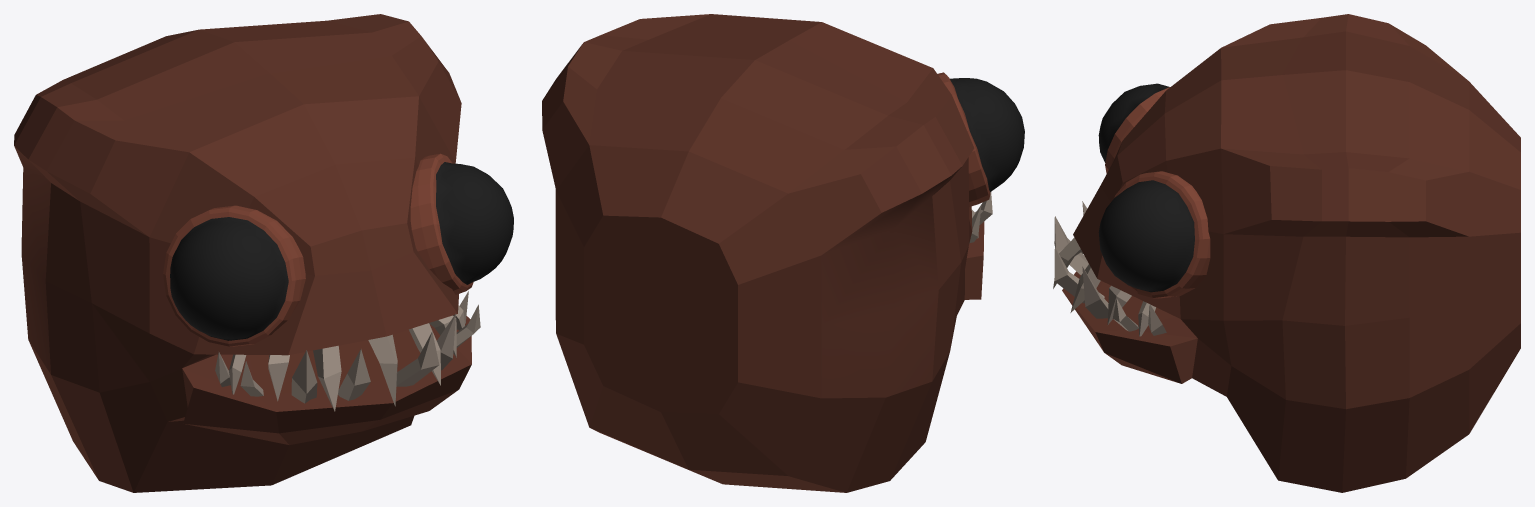
File: ScyllaHead_Models.fbx
The picture shows the model from 3 angles, left to right: view 1: azimuth 30°, elevation 25°; view 2: azimuth 150°, elevation 25°; view 3: azimuth 270°, elevation 25°; orthographic projection. The views are drawn at different scales.
Parts seen in each view (by area): view 1: Anglerfish; view 2: Anglerfish; view 3: Anglerfish.
Boxes of the visible parts, x1,y1,x2,y2 form: Anglerfish: (14,14,513,492); Anglerfish: (542,14,1024,492); Anglerfish: (1053,14,1520,492).
Bounding box in the file's own units: 274 × 274 × 302.
